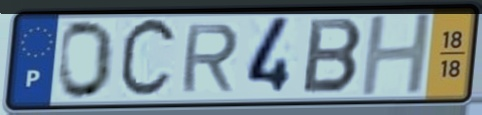4: (242, 13, 299, 101)
B: (299, 16, 367, 96)
C: (115, 13, 181, 105)
H: (357, 10, 436, 100)
O: (56, 17, 117, 102)
R: (177, 21, 242, 95)
